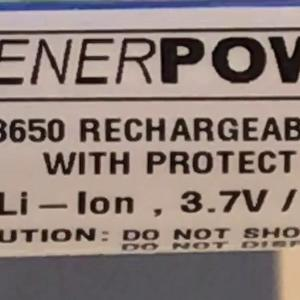keyword: (171, 179, 275, 223)
